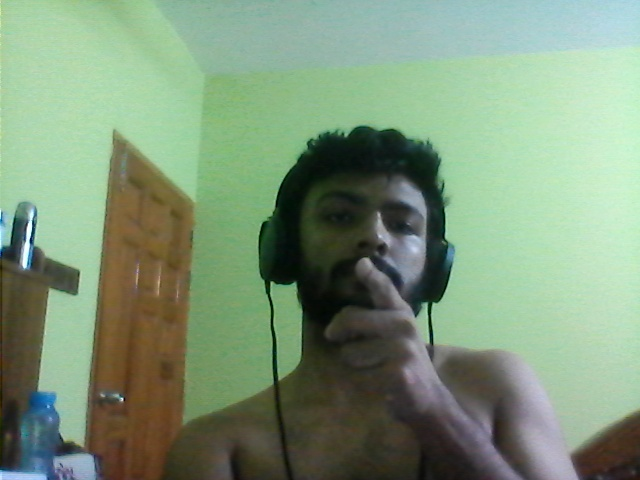You: (318, 253, 462, 417)
